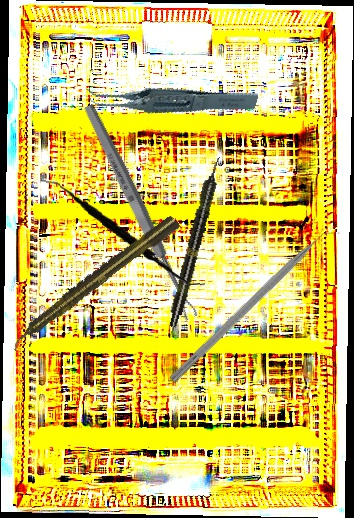Chopper: (168, 221, 345, 392)
Handpiece: (5, 212, 182, 353), (165, 155, 226, 329)
Spatula Surgical: (34, 178, 212, 286)
Surgical Spoon: (81, 102, 199, 322)
Tissue Forceps: (82, 49, 260, 145)
